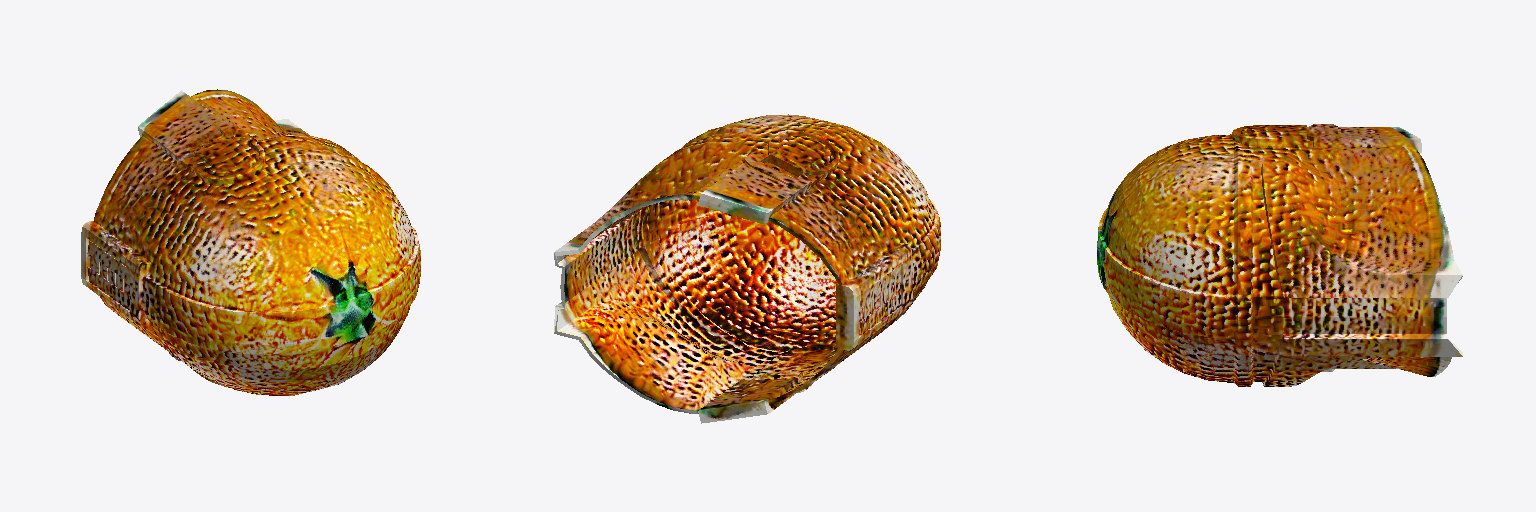
3 renders of one model, left to right at view 1: azimuth 30°, elevation 25°; view 2: azimuth 150°, elevation 25°; view 3: azimuth 270°, elevation 25°, orthographic.
Parts seen in each view (by area): view 1: object; view 2: object; view 3: object.
Boxes of the visible parts, x1=… form: object: x1=81, y1=89, x2=420, y2=395; object: x1=554, y1=114, x2=940, y2=423; object: x1=1097, y1=124, x2=1462, y2=386.
Size of the model in its own units: 1.56 by 1.34 by 1.9.
Materials: 1 (1 with a texture image).